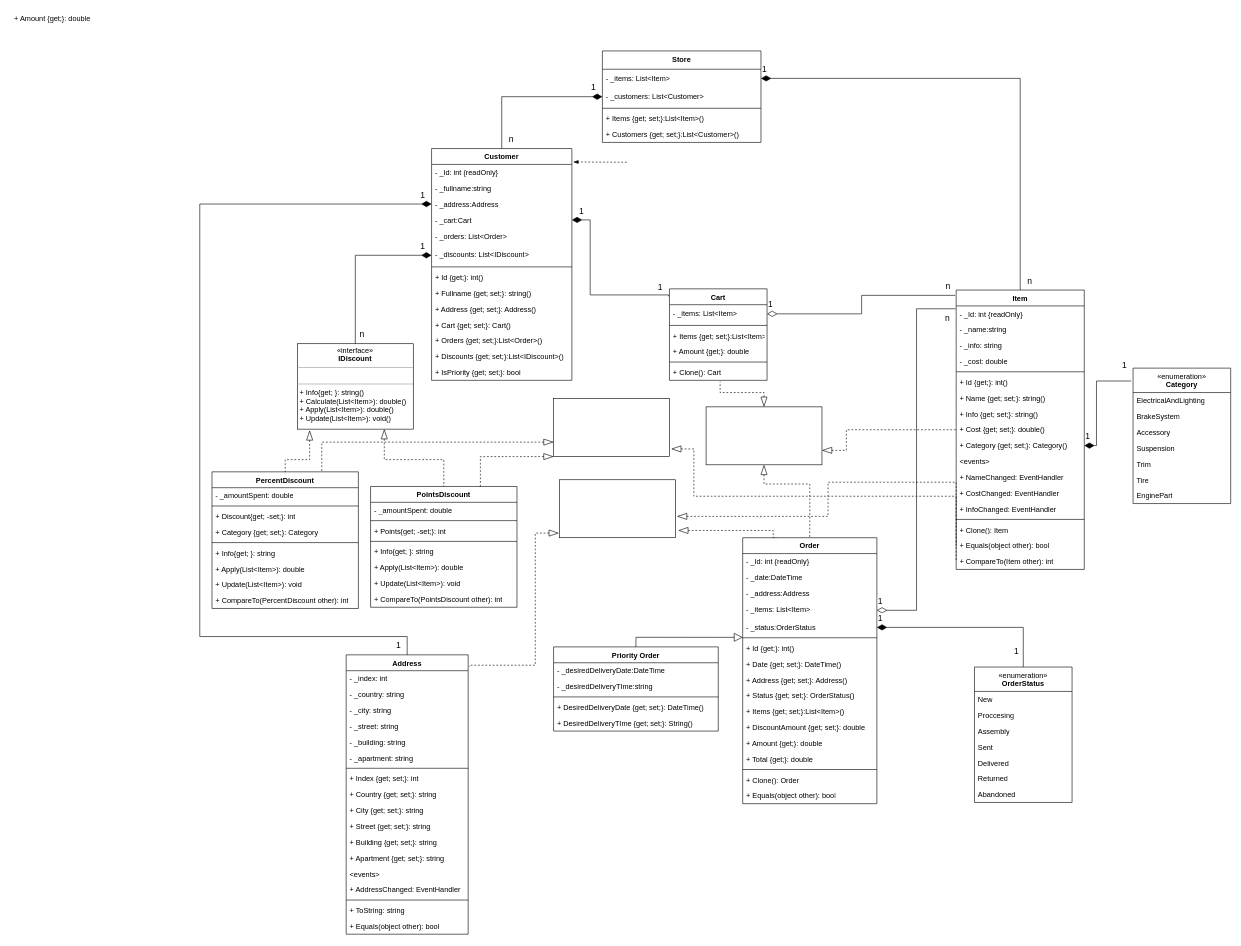
Image size: 1241x946. Some labels were removed from this diagram. Each missing label, with the centre of its shape:
"«interface» ICloneable + Clone(): object" goes at point 763,435.
"«interface» IComparable<> + CompareTo(object other): int" goes at point 611,427.
"«interface» IEquatable<> + Equals(object other): bool" goes at point 617,508.
